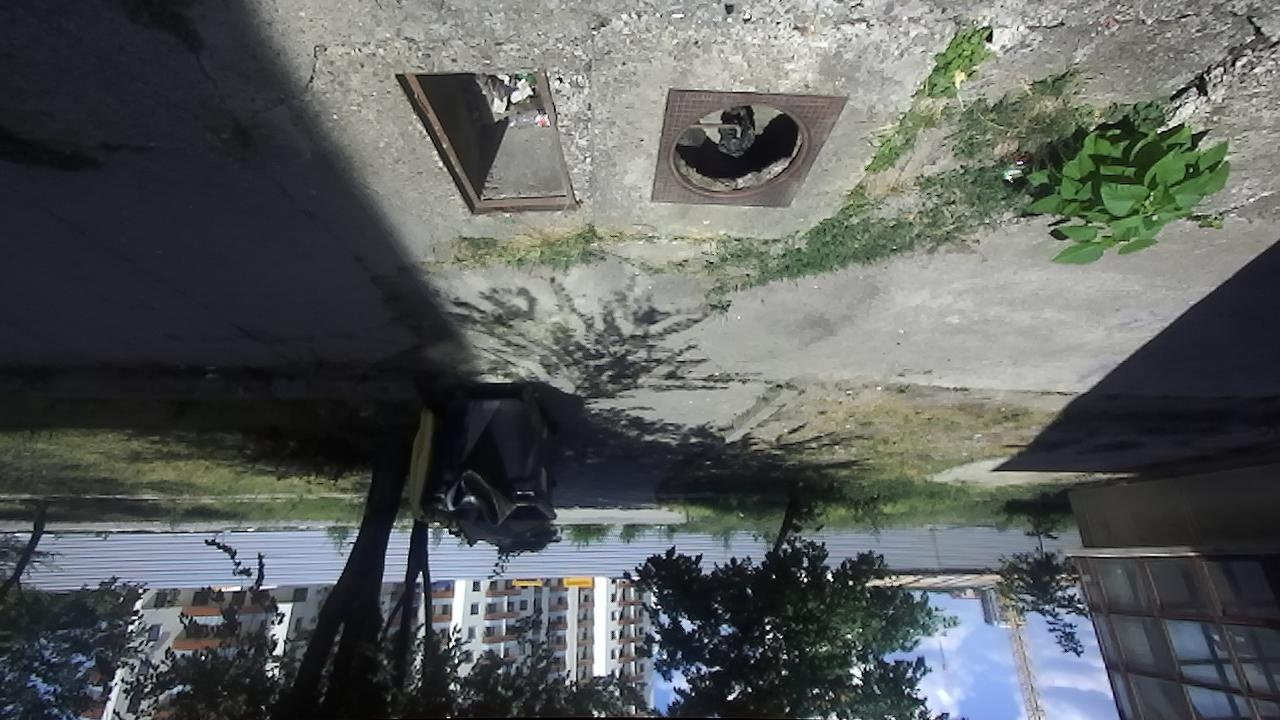drain: (390, 62, 584, 220), (665, 98, 818, 202)
